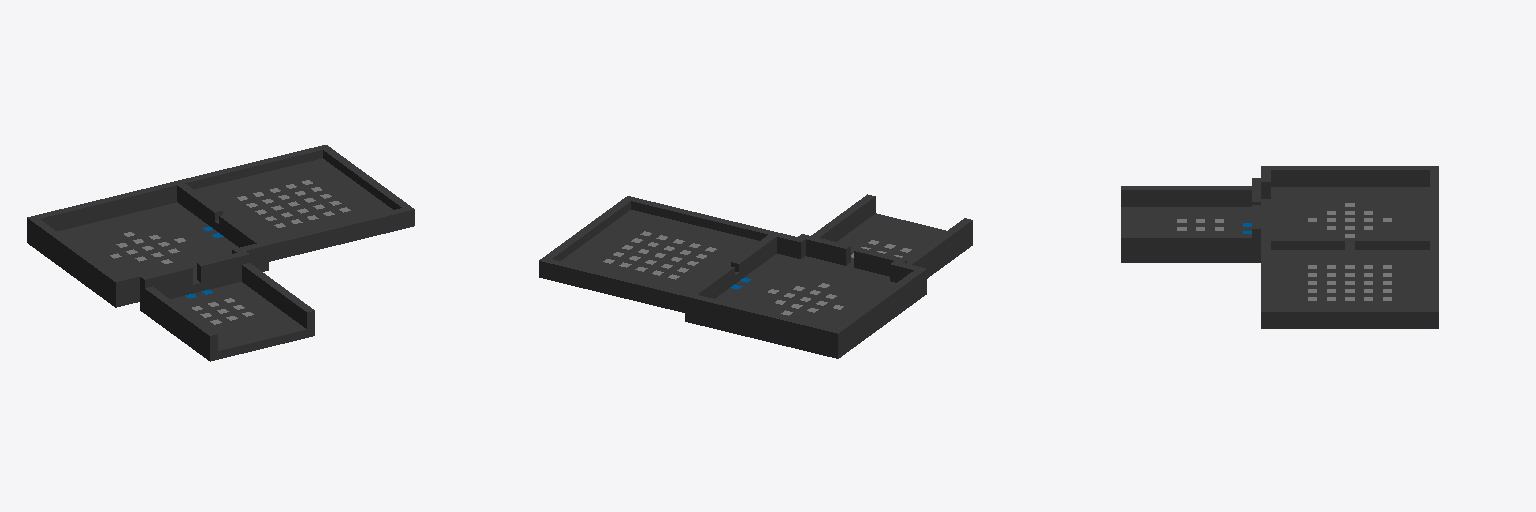
3 views of the same model, side by side, from view 1: azimuth 30°, elevation 25°; view 2: azimuth 150°, elevation 25°; view 3: azimuth 270°, elevation 25° (orthographic).
Parts seen in each view (by area): view 1: object 1; view 2: object 1; view 3: object 1.
Boxes of the visible parts, box(x1,y1,x2,y2) form: object 1: box(27, 145, 414, 361); object 1: box(539, 194, 972, 358); object 1: box(1121, 166, 1438, 328).
Size of the model in its own units: 14.8 by 1.6 by 13.6.
1 materials, 1 textured.